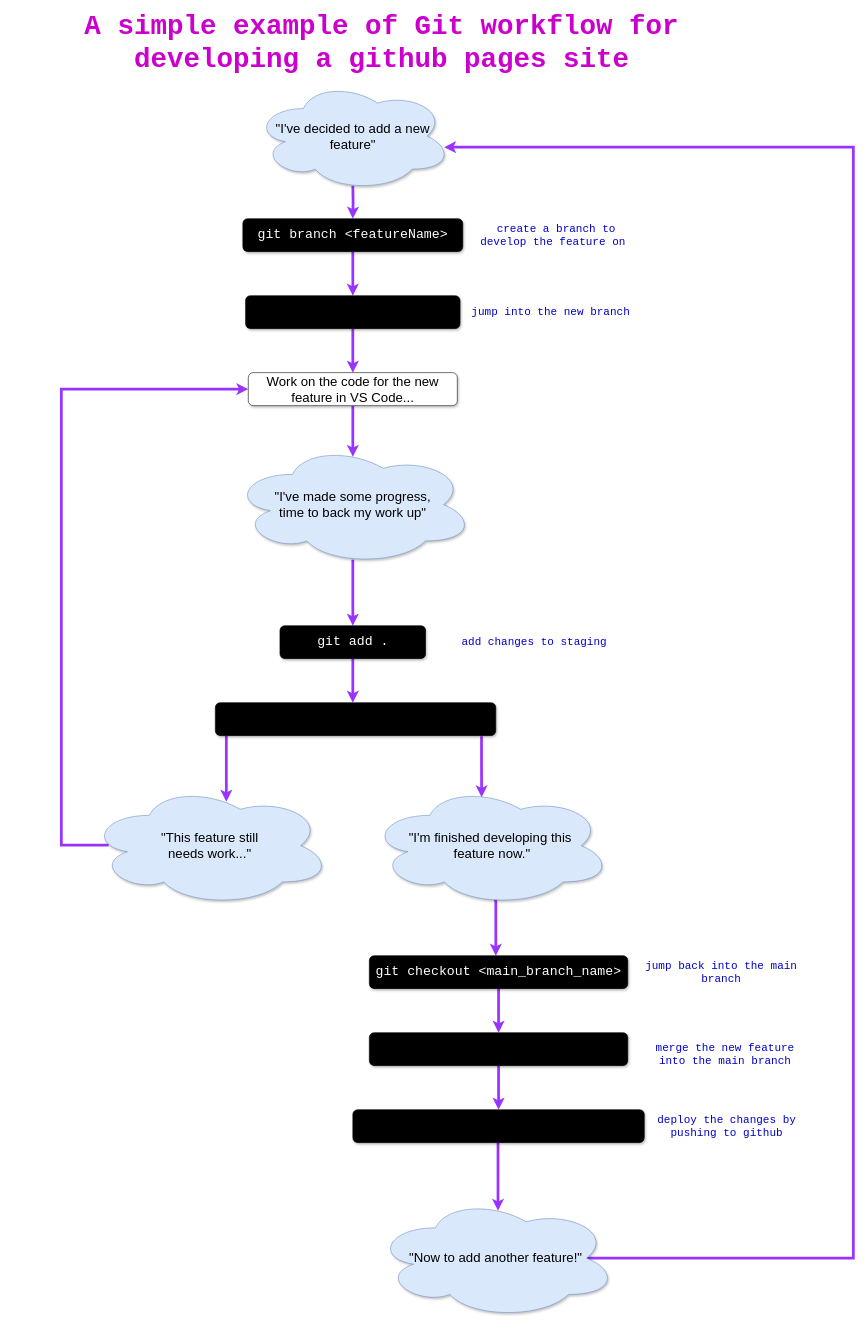
Image size: 868x1332. Some labels were removed from this diagram. Each missing label, with the centre of its shape:
git checkout <featureName>: point (353, 312)
git commit -m "<useful message>": point (356, 719)
git merge <featureName>: point (499, 1049)
git push origin <main_branch_name>: point (499, 1126)
